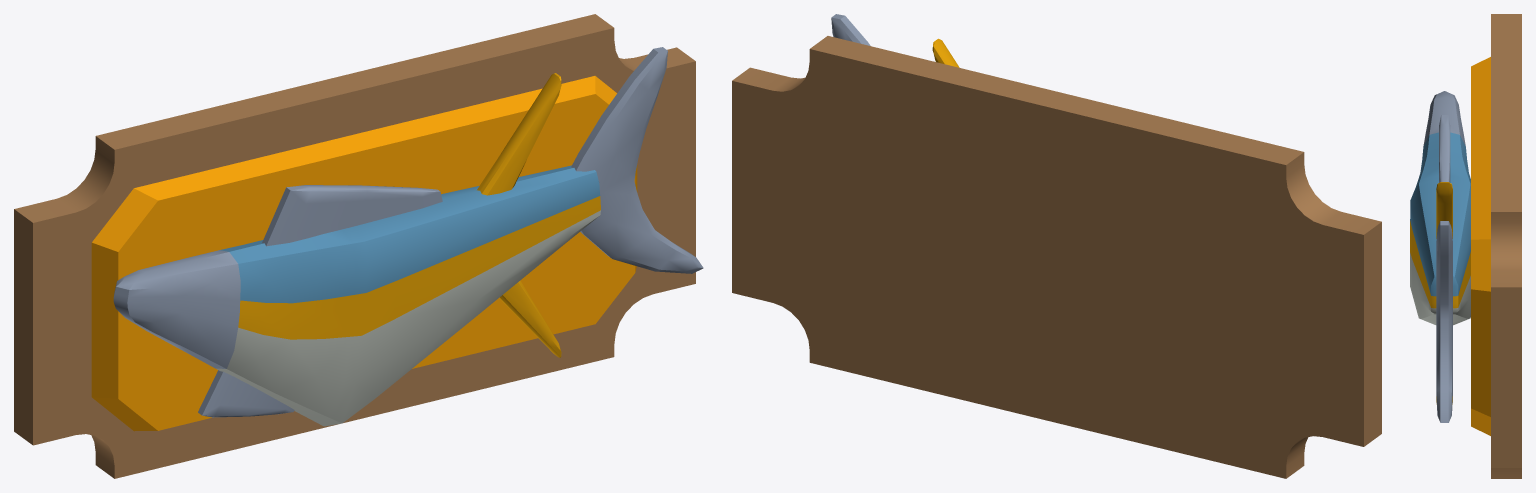
Rendered from Decoration_Fish.glb.
3 renders of one model, left to right at view 1: azimuth 30°, elevation 25°; view 2: azimuth 150°, elevation 25°; view 3: azimuth 270°, elevation 25°, orthographic. The views are drawn at different scales.
Visible parts, largest first — view 1: Decoration_Fish; view 2: Decoration_Fish; view 3: Decoration_Fish.
Boxes of the visible parts, x1,y1,x2,y2 form: Decoration_Fish: (14,14,703,478); Decoration_Fish: (732,14,1381,478); Decoration_Fish: (1410,14,1521,478).
Size of the model in its own units: 3.02 by 1.44 by 0.5443.
1 material, 1 textured.
